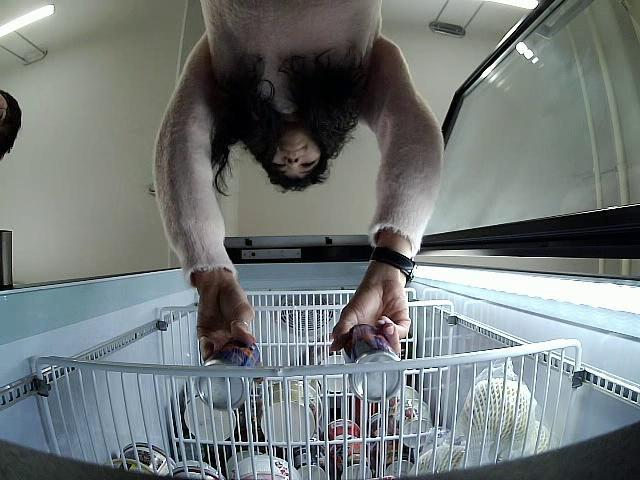16_hot6: (196, 336, 260, 411), (342, 326, 401, 400)
